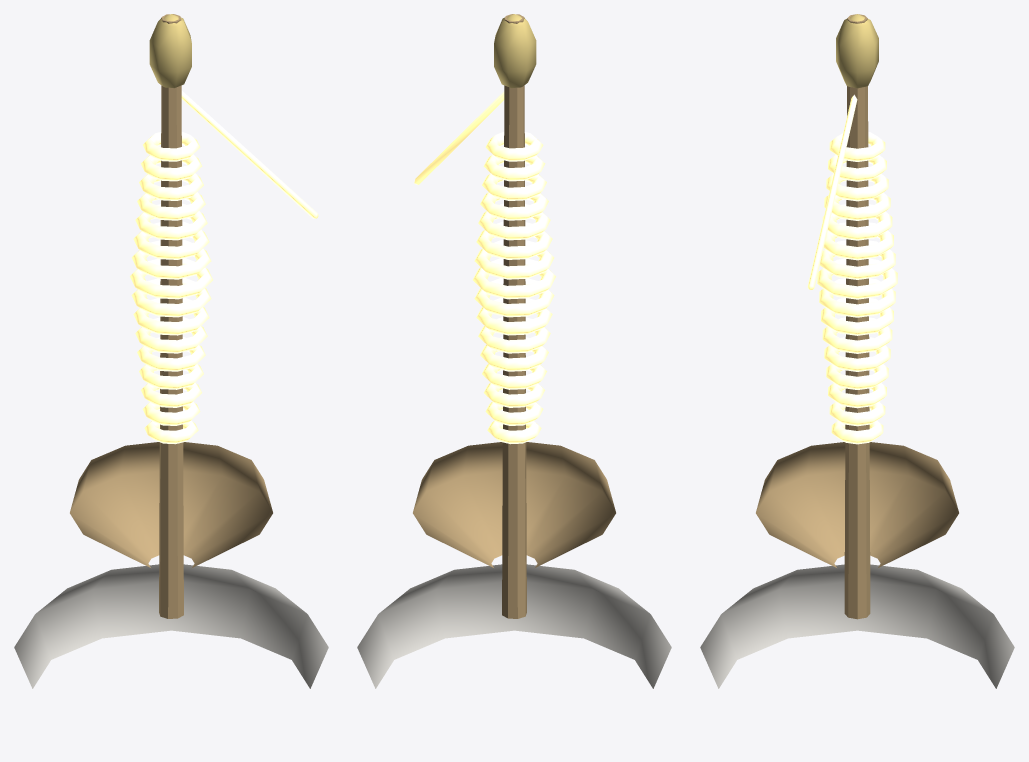
Rendered from mythic-underworld-and-olympus-spindle-of-fate-52a5308e__21415.glb.
The picture shows the model from 3 angles, left to right: view 1: azimuth 30°, elevation 25°; view 2: azimuth 150°, elevation 25°; view 3: azimuth 270°, elevation 25°; orthographic projection.
Parts seen in each view (by area): view 1: spindle-of-fate; view 2: spindle-of-fate; view 3: spindle-of-fate.
Boxes of the visible parts, x1,y1,x2,y2 form: spindle-of-fate: (14,14,328,688); spindle-of-fate: (357,14,671,688); spindle-of-fate: (700,14,1014,688).
Size of the model in its own units: 0.68 by 1.61 by 0.68.
